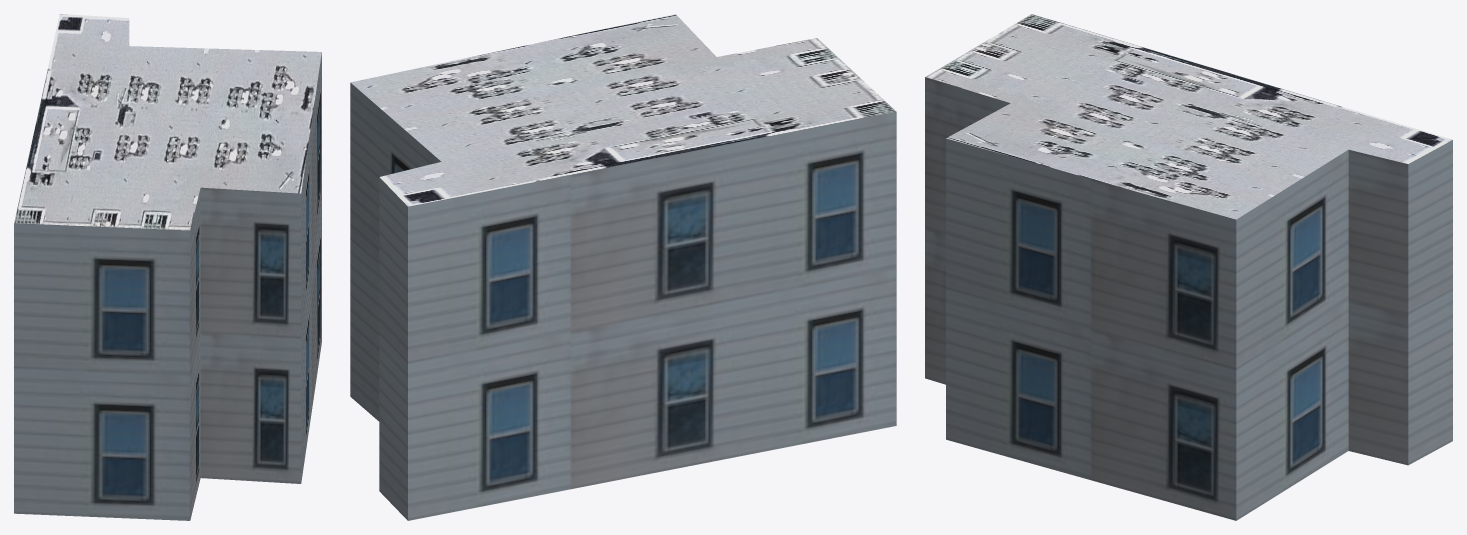
Rendered from ResTex__2450.fbx.
3 views of the same model, side by side, from view 1: azimuth 30°, elevation 25°; view 2: azimuth 150°, elevation 25°; view 3: azimuth 270°, elevation 25° (orthographic). The views are drawn at different scales.
Visible parts, largest first — view 1: CityEngineMaterial_18_m, CityEngineMaterial_m; view 2: CityEngineMaterial_18_m, CityEngineMaterial_m; view 3: CityEngineMaterial_18_m, CityEngineMaterial_m.
Boxes of the visible parts, <box> form: CityEngineMaterial_18_m: <box>14,53,321,520</box>; CityEngineMaterial_m: <box>14,14,321,230</box>; CityEngineMaterial_18_m: <box>350,83,896,520</box>; CityEngineMaterial_m: <box>350,14,895,206</box>; CityEngineMaterial_18_m: <box>925,77,1452,520</box>; CityEngineMaterial_m: <box>925,14,1452,219</box>.
Bounding box in the file's own units: 8.79 × 6 × 9.53.
2 materials, 2 textured.
